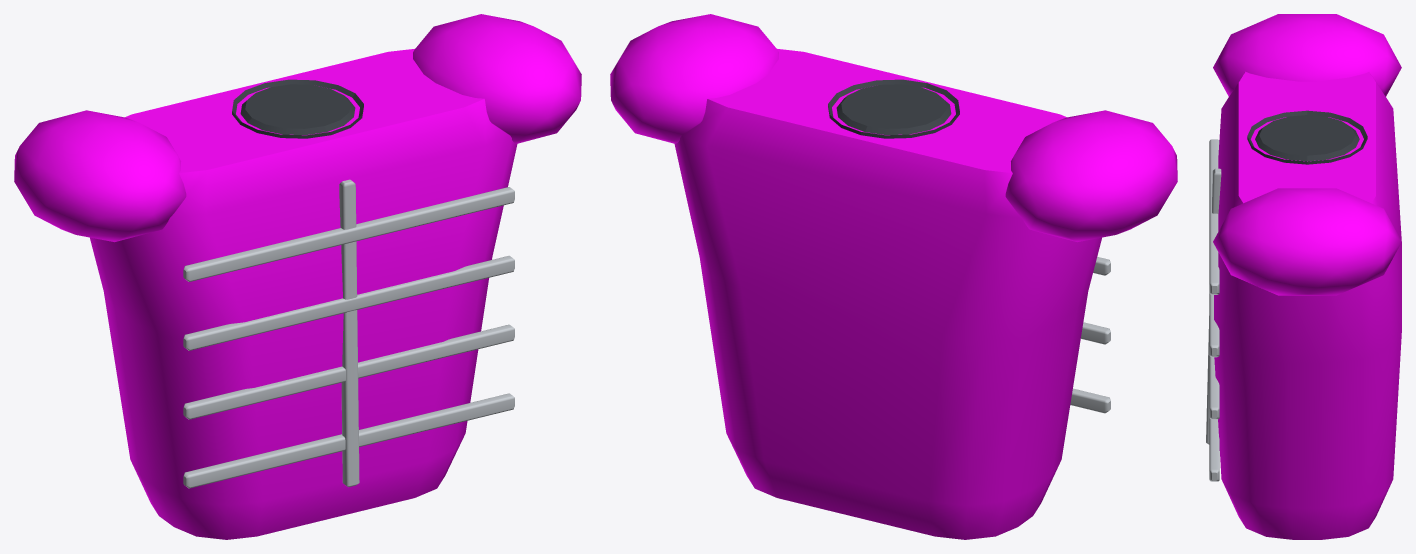
Rendered from objet_armure2_plastron.glb.
The picture shows the model from 3 angles, left to right: view 1: azimuth 30°, elevation 25°; view 2: azimuth 150°, elevation 25°; view 3: azimuth 270°, elevation 25°; orthographic projection. The views are drawn at different scales.
Visible parts, largest first — view 1: plastron_teinte.006, plastron_rivet.004, plastron_teinte_sombre.006; view 2: plastron_teinte.006, plastron_teinte_sombre.006, plastron_rivet.004; view 3: plastron_teinte.006, plastron_teinte_sombre.006, plastron_rivet.004.
Part boxes in pixels (bbox=[...]): plastron_teinte.006: bbox=[14, 14, 581, 539]; plastron_rivet.004: bbox=[183, 179, 514, 488]; plastron_teinte_sombre.006: bbox=[232, 79, 363, 138]; plastron_teinte.006: bbox=[610, 14, 1177, 539]; plastron_teinte_sombre.006: bbox=[828, 79, 959, 138]; plastron_rivet.004: bbox=[1070, 257, 1110, 413]; plastron_teinte.006: bbox=[1213, 14, 1401, 539]; plastron_teinte_sombre.006: bbox=[1247, 110, 1367, 164]; plastron_rivet.004: bbox=[1206, 139, 1221, 481].
Size of the model in its own units: 0.3256 by 0.24 by 0.114.
